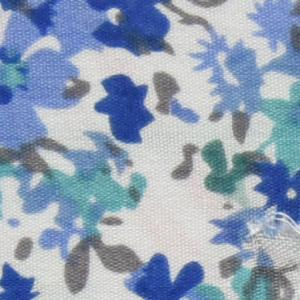Damage: (237, 197, 300, 300)
